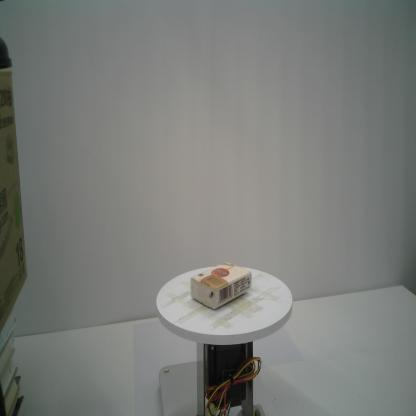Tissue: (191, 262, 252, 310)
